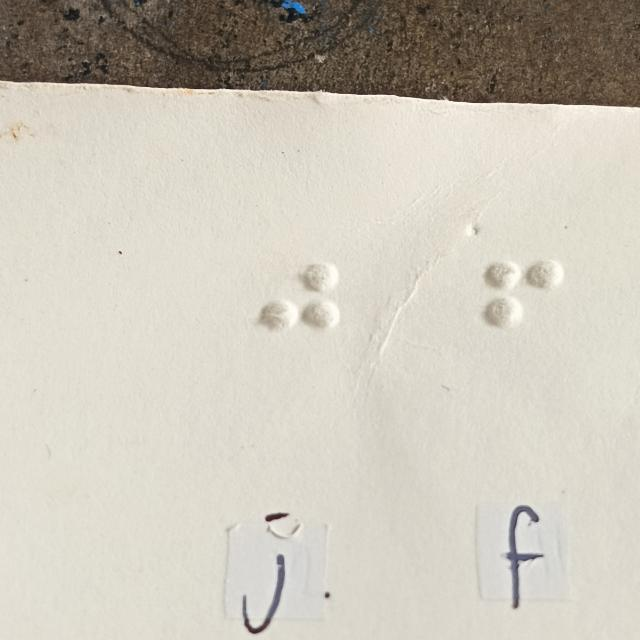letter_f: (485, 260, 566, 376)
letter_j: (258, 261, 340, 377)
